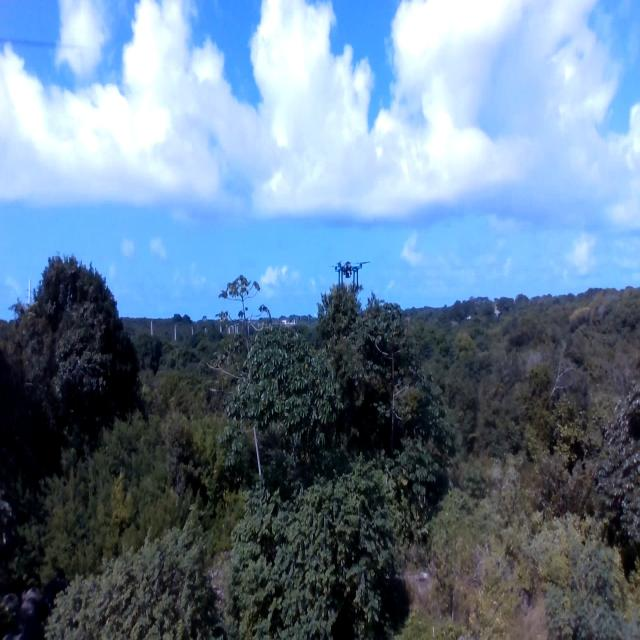-uav-: (322, 246, 378, 310)
